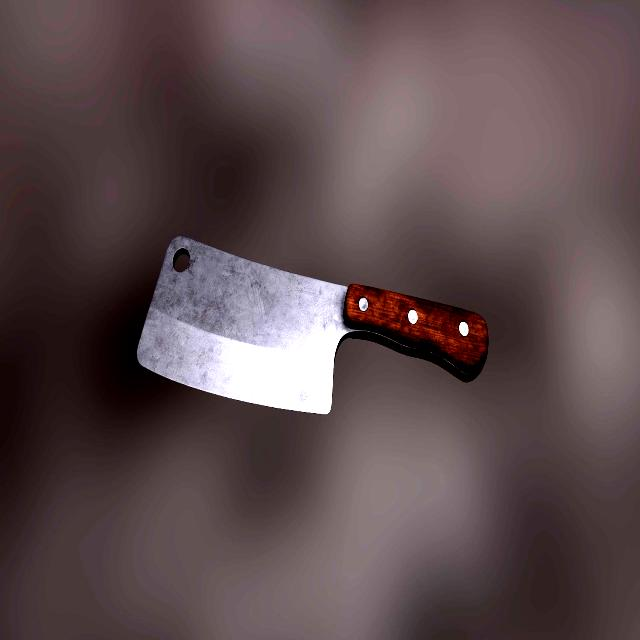cleaver: (140, 236, 487, 417)
